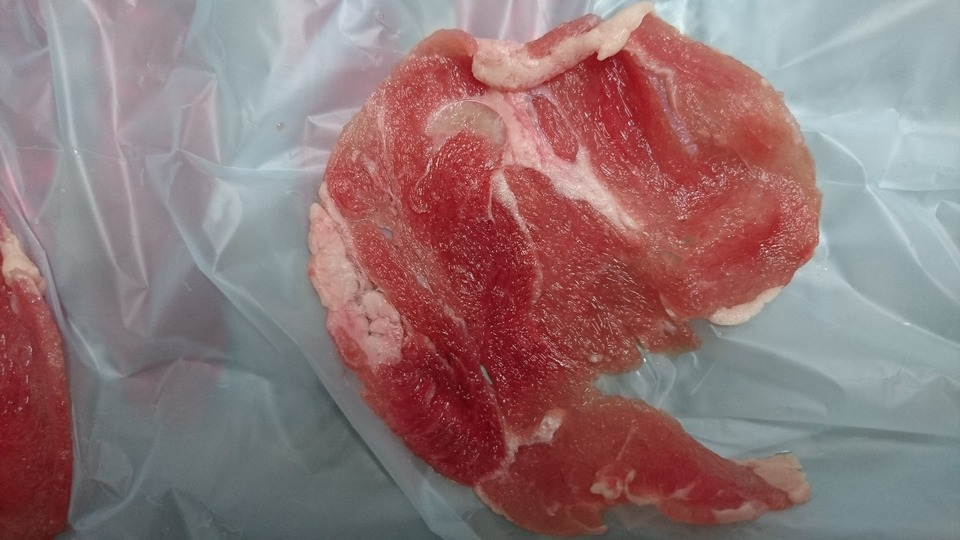restructured meat: (280, 17, 821, 528), (1, 221, 64, 537)
